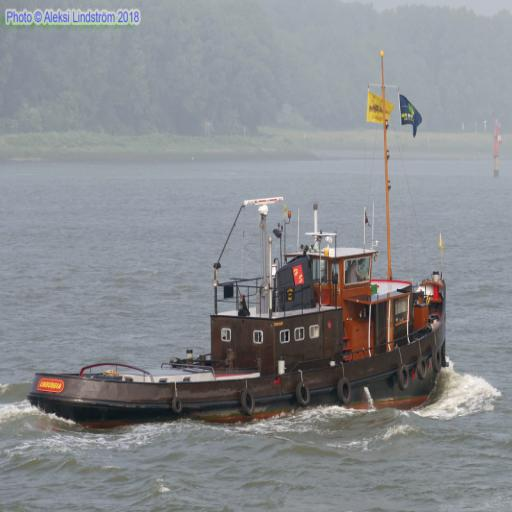tugboat: (26, 45, 455, 442)
